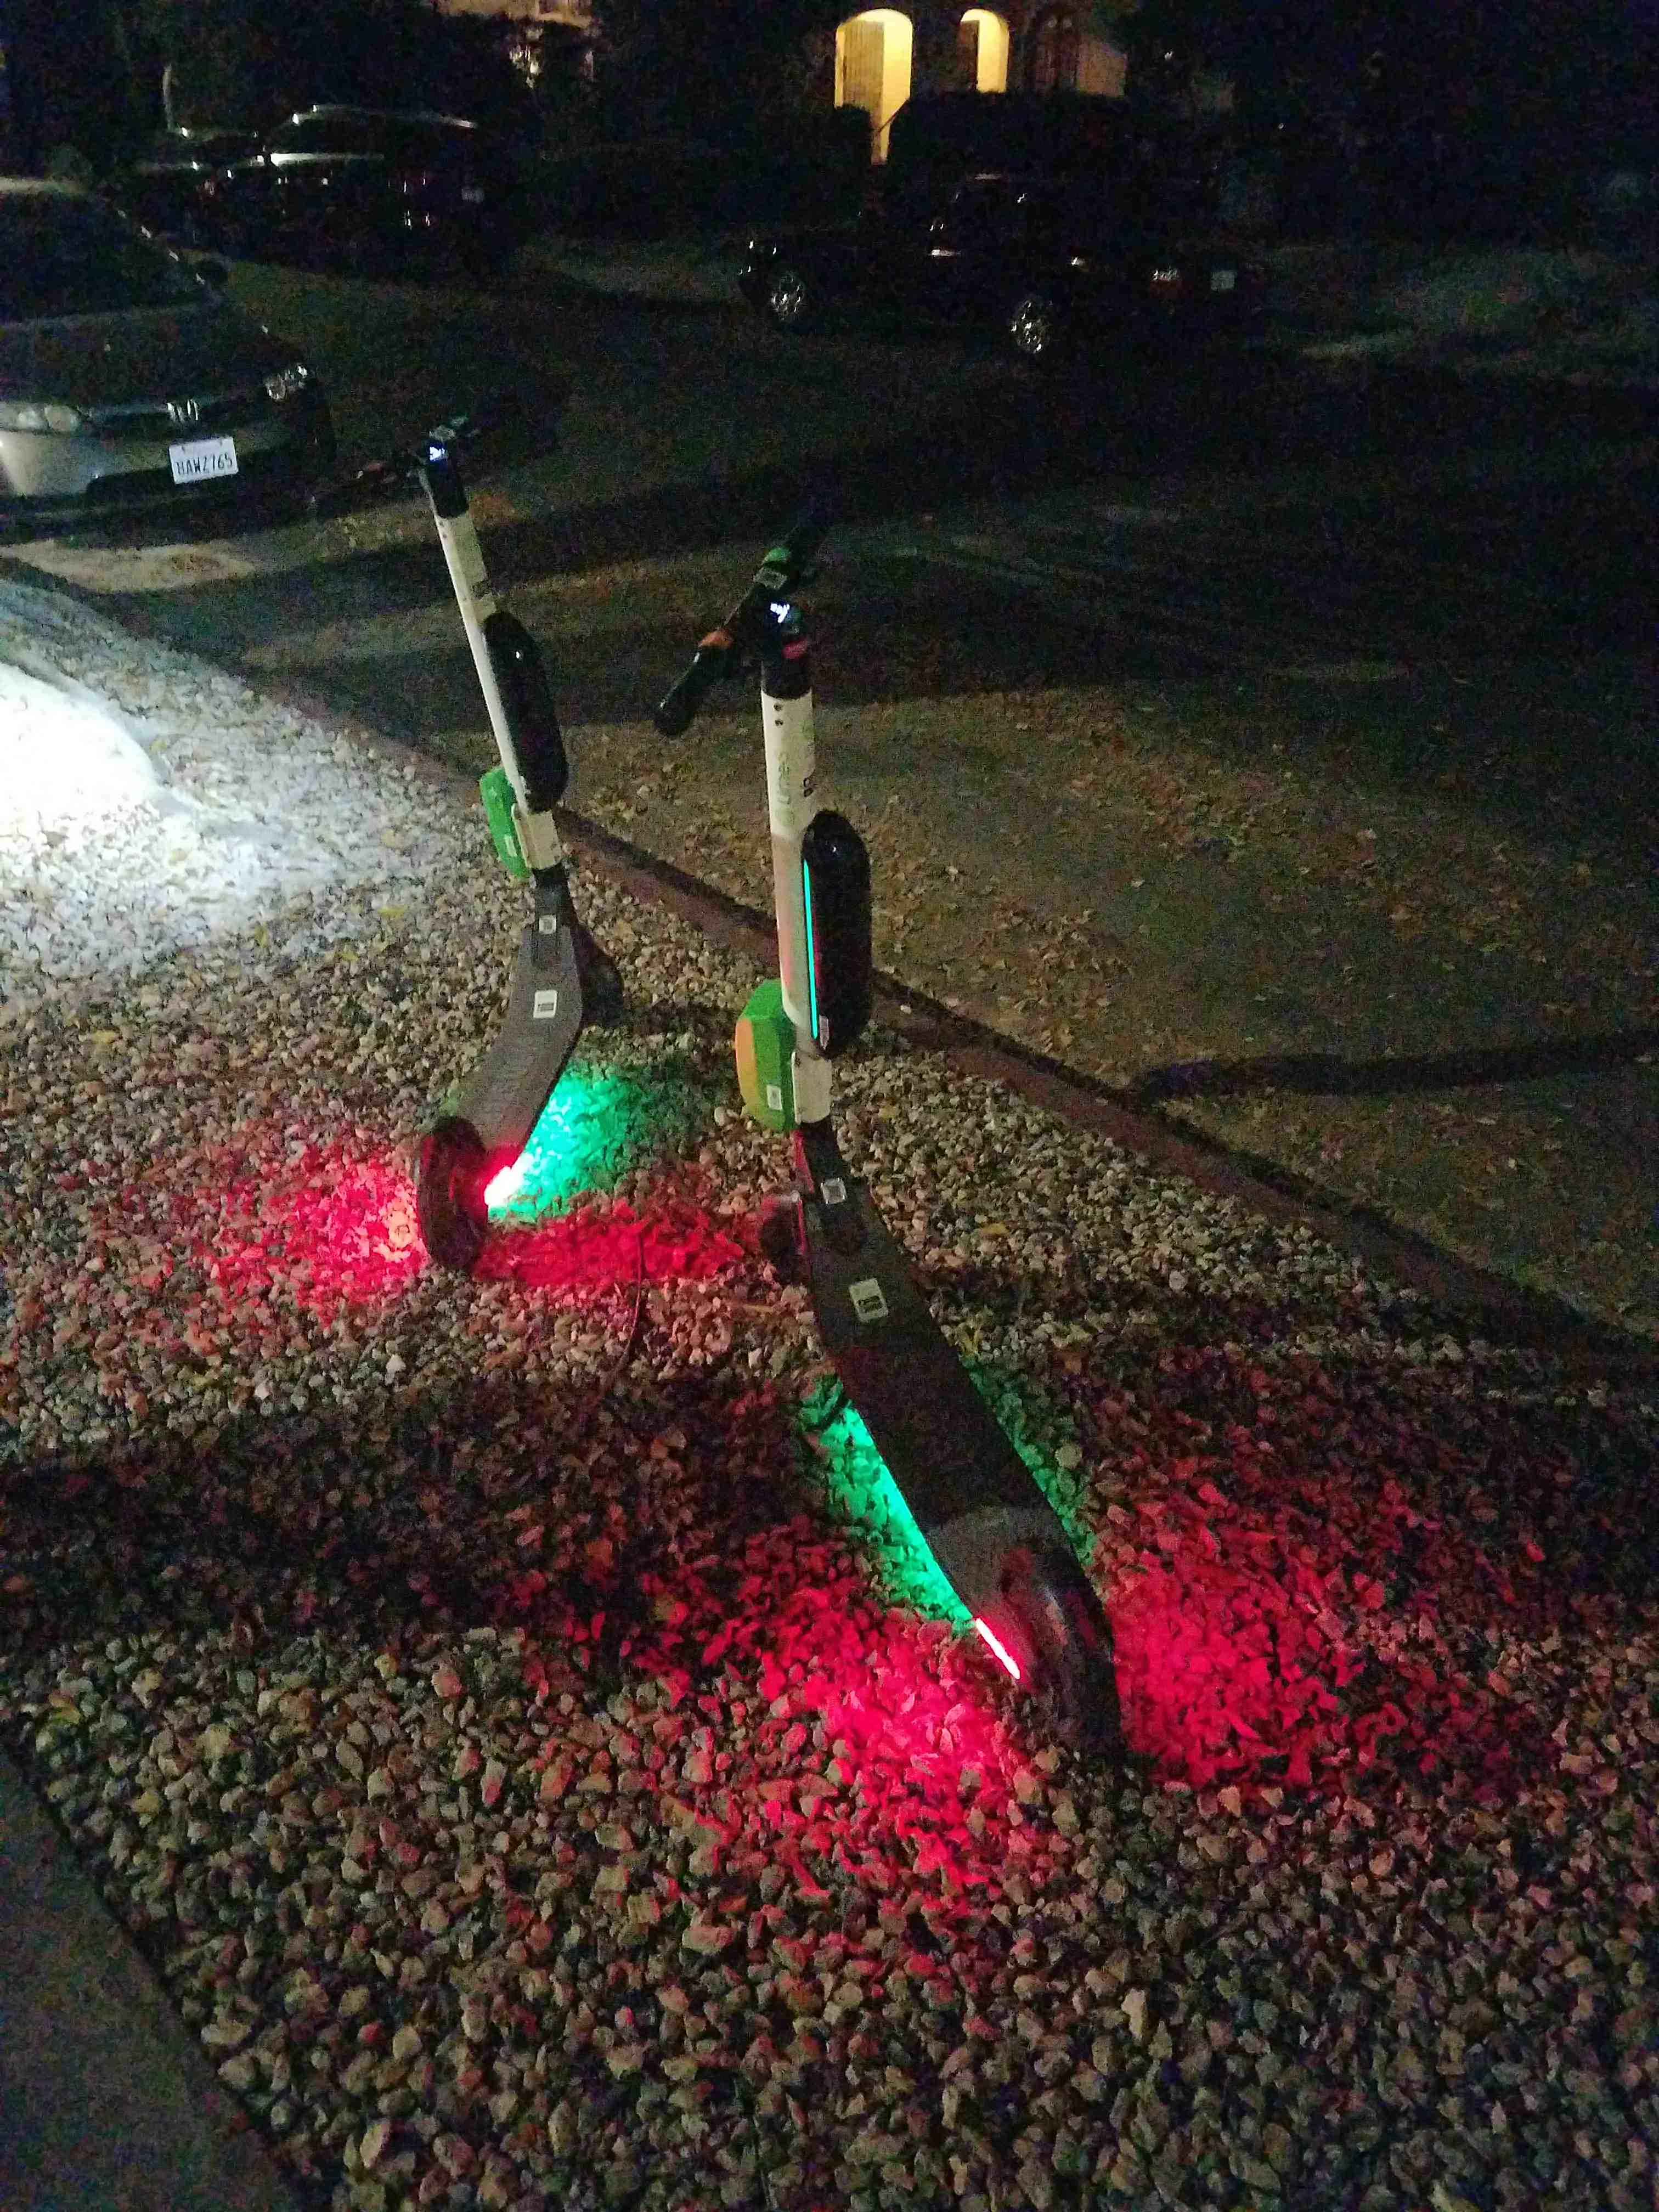scooter: (584, 509, 1150, 1796)
